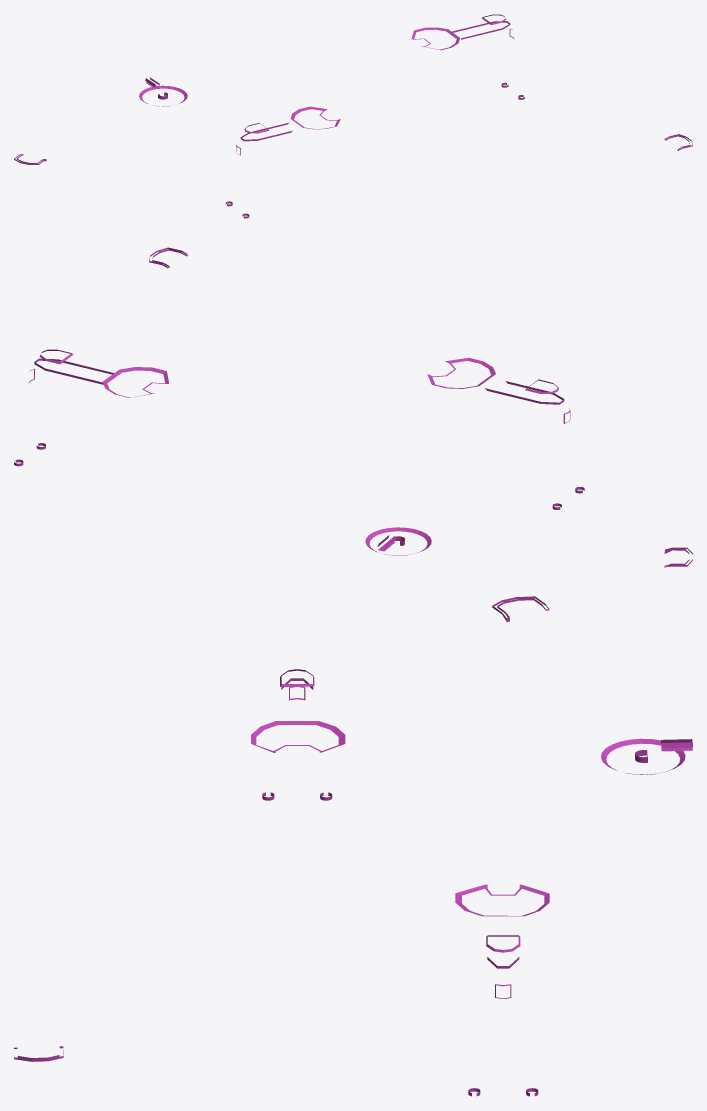
Rendered from cluster5.fbx.
3 views of the same model, one above another, from view 1: azimuth 30°, elevation 25°; view 2: azimuth 150°, elevation 25°; view 3: azimuth 270°, elevation 25° (orthographic). The views are drawn at different scales.
Parts seen in each view (by area): view 1: cluster5; view 2: cluster5; view 3: cluster5.
Boxes of the visible parts, box(x1,y1,x2,y2) form: cluster5: box(14, 14, 692, 218); cluster5: box(14, 247, 692, 567); cluster5: box(14, 596, 692, 1096).
Bounding box in the file's own units: 1197144 × 182016 × 757975.
